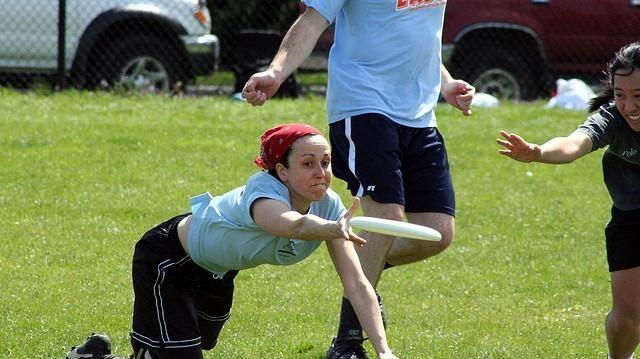truck: (0, 0, 222, 97), (441, 3, 639, 102)
